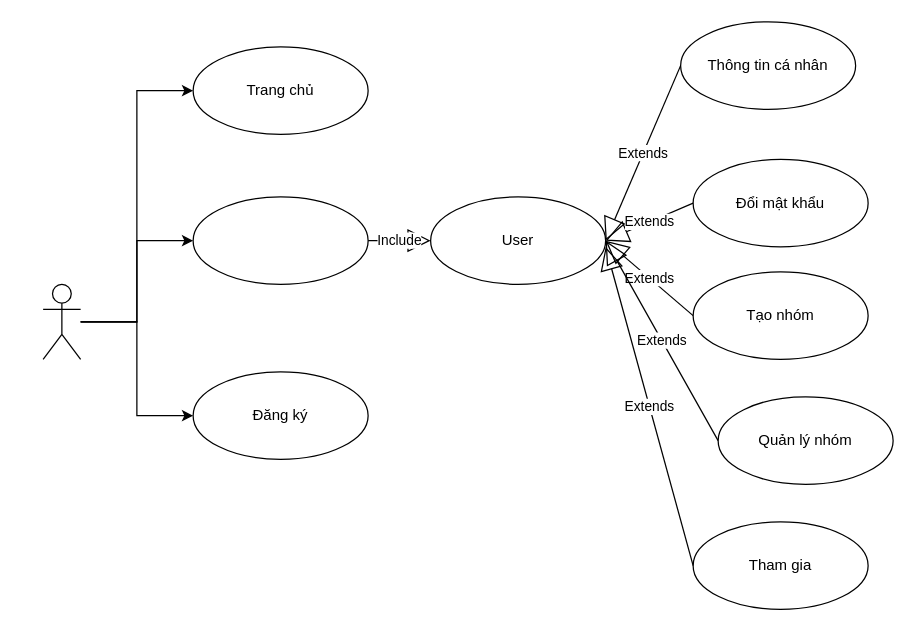
The diagram is 915 pixels wide and 631 high, and some of its shapes have lost their labels. The shapes that lost their labels are listed below. From the top down, each one's centre as x and y in pixels, then its label:
the point at 280,240: Đăng nhập
the point at 61,321: Người dùng
